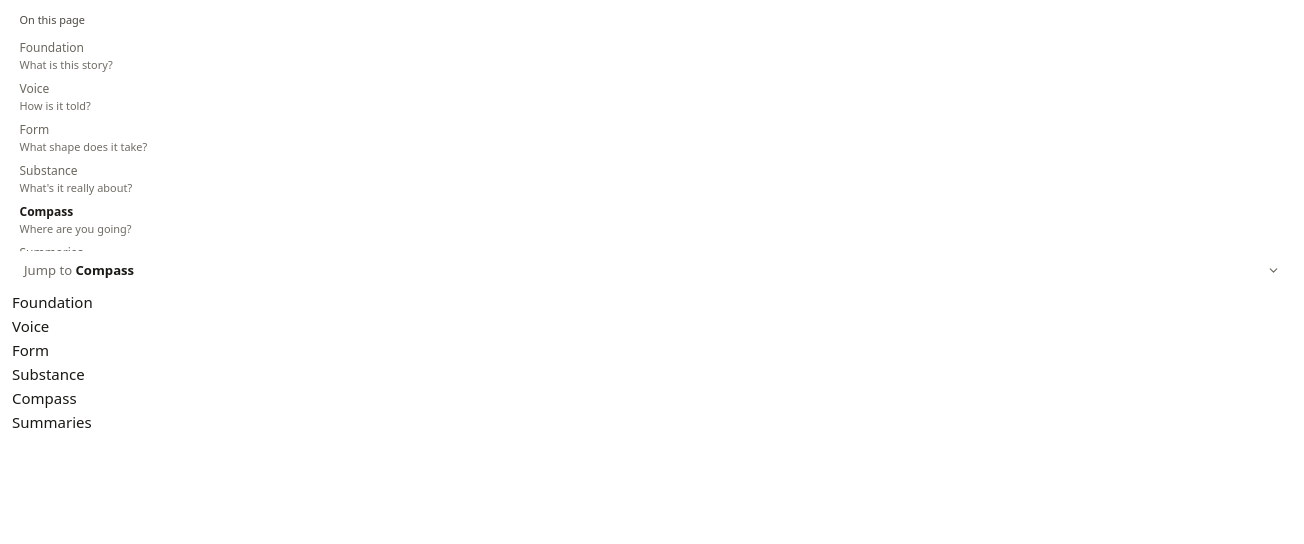
Test case: a page's contents given as items › lists every section with its line, and offers the same as Jump to
Expected: the number of links is 6, 20,39 -> 113,72; 20,80 -> 91,113; 20,121 -> 147,154; 20,162 -> 132,195; 20,203 -> 132,236; 20,244 -> 99,277
Expected: the text "How is it told?" is shown, 20,98 -> 91,113
What coordinates should you click on to do the following:
click the button "Jump to Compass"
I would click on:
 (48, 270)
Its box is 12,251 -> 1292,290.
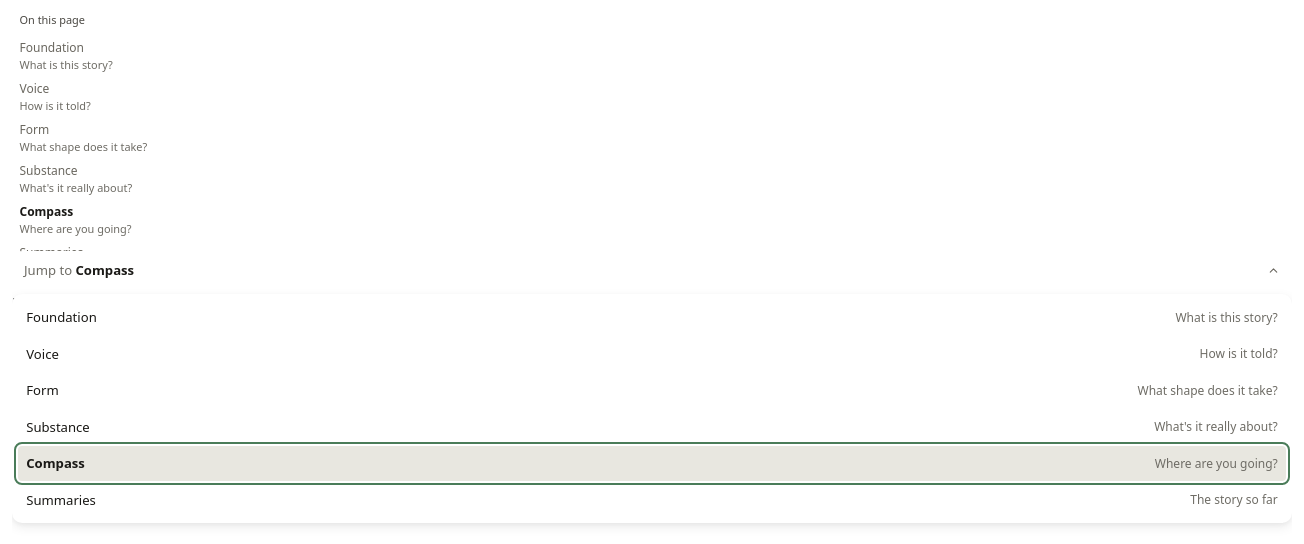
Expected: the number of options is 6, 18,300 -> 1286,335; 18,337 -> 1286,371; 18,373 -> 1286,408; 18,410 -> 1286,444; 18,446 -> 1286,481; 18,483 -> 1286,517
